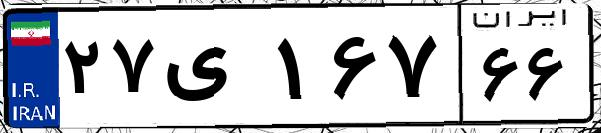1: (270, 28, 330, 110)
2: (57, 26, 110, 100)
6: (330, 28, 385, 110), (475, 38, 525, 113), (525, 38, 570, 115)
7: (385, 28, 445, 110), (110, 28, 158, 98)
ی: (158, 20, 270, 120)
